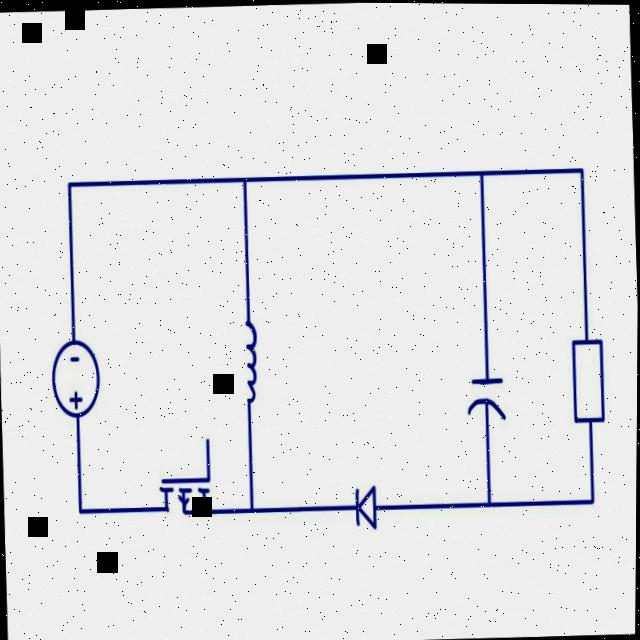capacitor: (454, 357, 516, 430)
diode: (345, 474, 386, 542)
inductor: (227, 310, 275, 417)
mosfet: (148, 429, 218, 540)
resistor: (555, 326, 620, 437)
source: (45, 337, 108, 427)
